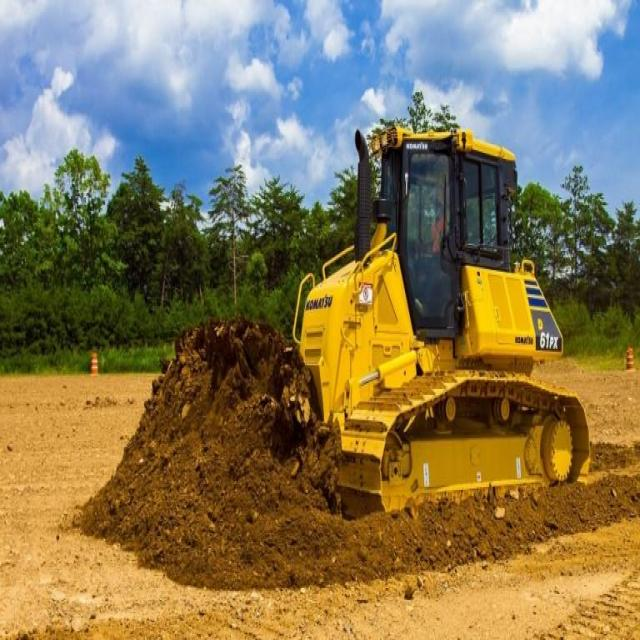Bulldozer: (226, 88, 620, 518)
